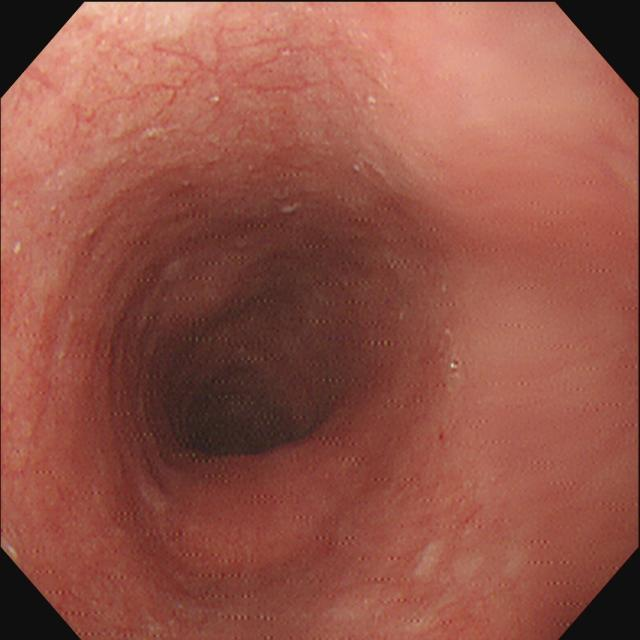E: (171, 359, 305, 463)
